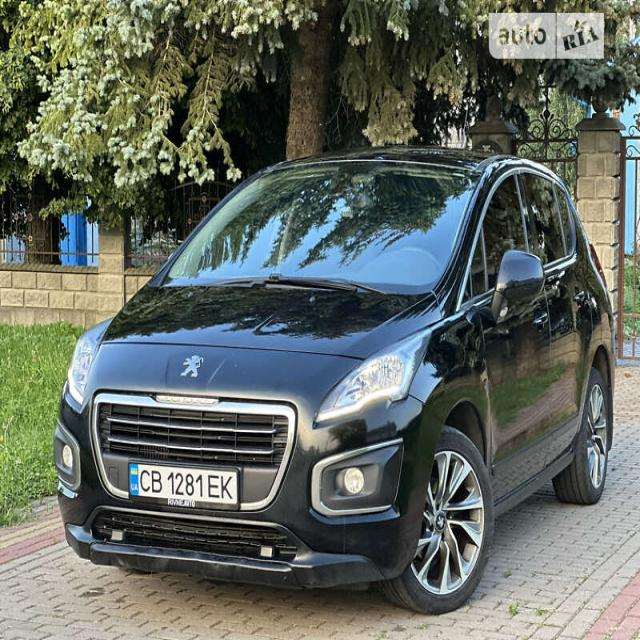plate: (123, 460, 245, 520)
